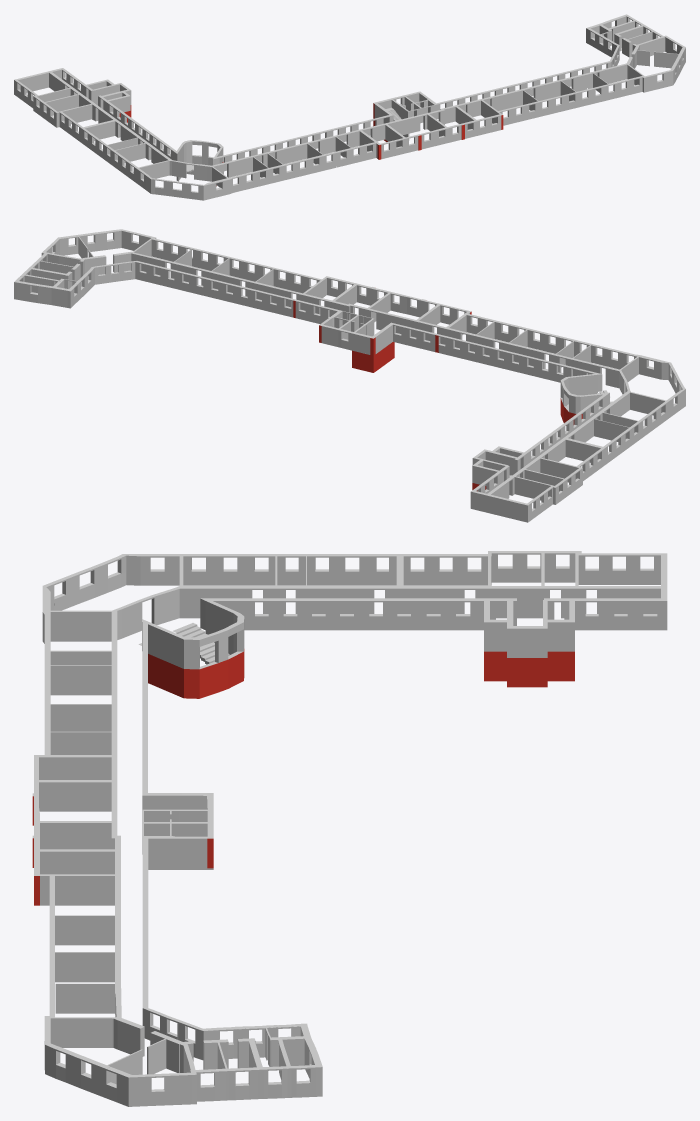
The model's file is PrvePoschodie.gltf.
The picture shows the model from 3 angles, top to bottom: view 1: azimuth 30°, elevation 25°; view 2: azimuth 150°, elevation 25°; view 3: azimuth 270°, elevation 25°; orthographic projection. The views are drawn at different scales.
Parts seen in each view (by area): view 1: Planeg; view 2: Planeg; view 3: Planeg.
Part boxes in pixels (box(x1,y1,x2,y2)): Planeg: box(14, 14, 685, 200); Planeg: box(14, 229, 685, 522); Planeg: box(32, 551, 667, 1106).
Size of the model in its own units: 1.61 by 0.0844 by 0.8207.
